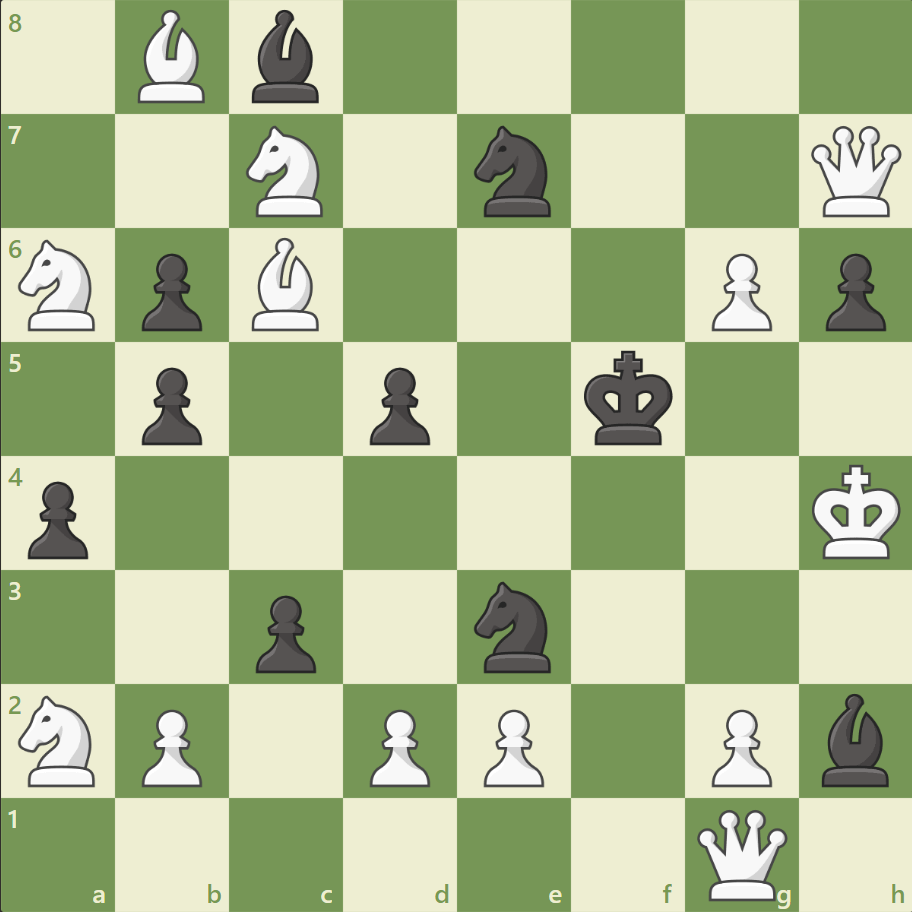B: (131, 6, 215, 109), (244, 233, 328, 336)
K: (806, 458, 906, 566)
N: (11, 234, 108, 337), (11, 688, 108, 791), (238, 121, 335, 223)
P: (701, 246, 776, 337), (133, 700, 208, 791), (474, 700, 549, 791), (701, 700, 776, 791), (361, 700, 435, 791)
Q: (805, 122, 904, 222), (691, 804, 790, 903)
b: (244, 6, 328, 109), (812, 687, 896, 790)
k: (579, 344, 679, 452)
n: (465, 121, 562, 223), (465, 575, 562, 677)
p: (133, 246, 208, 337), (133, 359, 208, 450), (20, 473, 95, 564), (247, 586, 322, 677), (815, 246, 889, 337), (361, 359, 435, 450)
